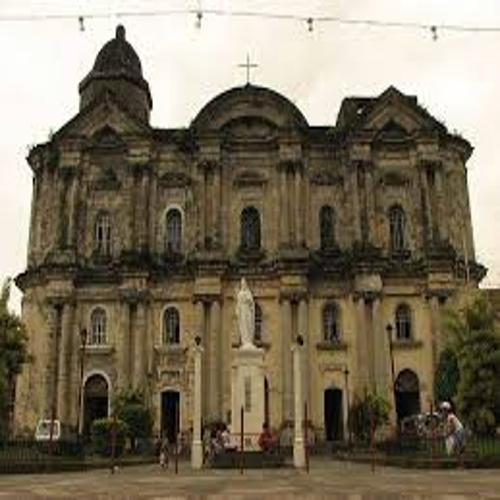Taal Basilica Church: (21, 20, 499, 461)
